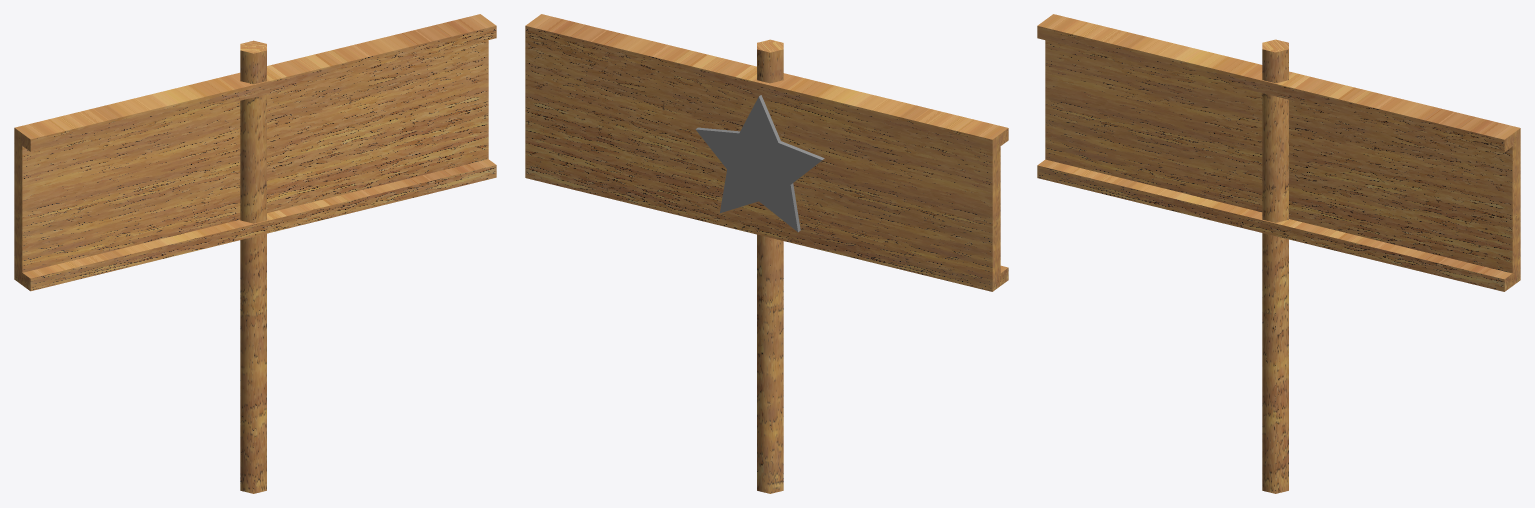
File: Sign.fbx
3 views of the same model, side by side, from view 1: azimuth 30°, elevation 25°; view 2: azimuth 150°, elevation 25°; view 3: azimuth 330°, elevation 25° (orthographic).
Parts seen in each view (by area): view 1: Box001, Peg; view 2: Box001, Peg, Star001; view 3: Box001, Peg.
Boxes of the visible parts, bbox=[...] form: Box001: bbox=[14, 14, 496, 291]; Peg: bbox=[240, 40, 266, 493]; Box001: bbox=[525, 14, 1008, 291]; Peg: bbox=[757, 39, 783, 493]; Star001: bbox=[695, 95, 824, 232]; Box001: bbox=[1037, 14, 1520, 291]; Peg: bbox=[1262, 39, 1288, 493].
Size of the model in its own units: 1.75 by 1.58 by 0.1213.
